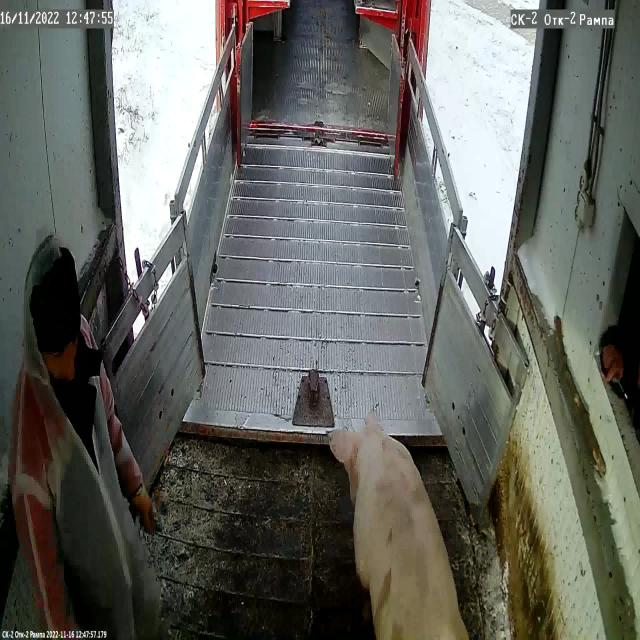pig: (328, 417, 470, 640), (328, 418, 470, 640)
